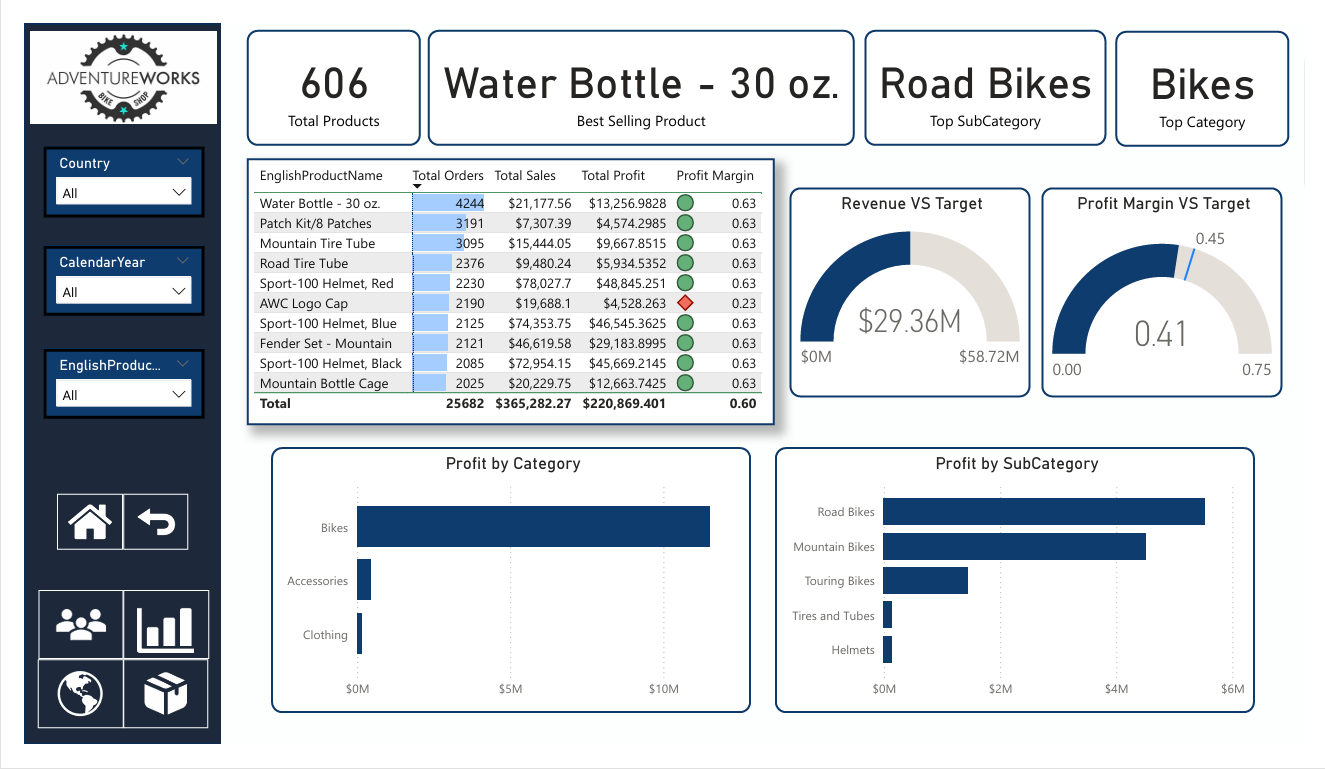

The page's visual inventory and layout, read from the dashboard file:
{"tool":"powerbi","page":{"name":"Product Performace","canvas":[1280,720],"ordinal":3},"visuals":[{"type":"shape","box":[0,0,196.5,719.8],"z":0},{"type":"image","box":[1,0,195.5,108.9],"z":1000},{"type":"slicer","fields":{"Values":["DimGeography.EnglishCountryRegionName"]},"box":[18.5,122.6,161.5,71],"z":2000},{"type":"slicer","fields":{"Values":["DimDate.CalendarYear"]},"box":[18.6,221.8,161.2,70.4],"z":3000},{"type":"slicer","fields":{"Values":["DimProductCategory.EnglishProductCategoryName"]},"box":[18.6,324.4,161.2,70.4],"z":4000},{"type":"image","box":[13.6,566.1,84.6,69.1],"z":5000},{"type":"image","box":[12.6,635.1,85.6,69.1],"z":6000},{"type":"image","box":[32.1,469.8,66.1,56.4],"z":7000},{"type":"image","box":[98.2,635.1,84.6,69.1],"z":8000},{"type":"image","box":[98.2,469.8,65.2,56.4],"z":9000},{"type":"image","box":[98.2,566.1,85.6,69.1],"z":10000},{"type":"tableEx","fields":{"Values":["DimProduct.EnglishProductName","Dax Measures.Total Orders","Dax Measures.Total Sales","Dax Measures.Total Profit","Dax Measures.Profit Margin"]},"box":[221.8,134.2,528.1,267.5],"z":11000},{"type":"barChart","title":"Profit by Category","fields":{"Category":["DimProductCategory.EnglishProductCategoryName"],"Y":["Dax Measures.Total Profit"]},"box":[246.1,423.1,480.5,265.5],"z":12000},{"type":"card","fields":{"Values":["Min(Top Selling Product.Top Product)"]},"box":[402.7,5.8,427,115.7],"z":13000},{"type":"barChart","title":"Profit by SubCategory","fields":{"Y":["Dax Measures.Total Profit"],"Category":["DimProductSubcategory.EnglishProductSubcategoryName"]},"box":[749.9,423.1,480.5,265.5],"z":14000},{"type":"gauge","title":"Revenue VS Target","fields":{"Y":["Dax Measures.Total Sales"]},"box":[764.5,163.4,241.2,210.1],"z":15000},{"type":"card","fields":{"Values":["Min(Top SubCategory.Top SubCategroy)"]},"box":[839.4,5.8,242.2,115.7],"z":16000},{"type":"card","fields":{"Values":["Min(Top Category.Top Category)"]},"box":[1090.3,6.8,174.1,115.7],"z":17000},{"type":"gauge","title":"Profit Margin VS Target","fields":{"Y":["Dax Measures.Profit Margin"],"TargetValue":["Dax Measures.Average Product Margin"]},"box":[1016.4,163.4,241.2,210.1],"z":18000},{"type":"card","fields":{"Values":["Count(DimProduct.ProductKey)"]},"box":[221.8,5.8,174.1,115.7],"z":18001}]}

Visuals, with their boxes on the page's 1280x720 design canvas (x1, y1, x2, y2). These are canvas units, not pixel positions in the 1325x769 screenshot, which may show the page scaled, cropped or inside an application window:
shape: pyautogui.locateOnScreen(0, 0, 196, 720)
image: pyautogui.locateOnScreen(1, 0, 196, 109)
slicer - DimGeography.EnglishCountryRegionName: pyautogui.locateOnScreen(18, 123, 180, 194)
slicer - DimDate.CalendarYear: pyautogui.locateOnScreen(19, 222, 180, 292)
slicer - DimProductCategory.EnglishProductCategoryName: pyautogui.locateOnScreen(19, 324, 180, 395)
image: pyautogui.locateOnScreen(14, 566, 98, 635)
image: pyautogui.locateOnScreen(13, 635, 98, 704)
image: pyautogui.locateOnScreen(32, 470, 98, 526)
image: pyautogui.locateOnScreen(98, 635, 183, 704)
image: pyautogui.locateOnScreen(98, 470, 163, 526)
image: pyautogui.locateOnScreen(98, 566, 184, 635)
tableEx - DimProduct.EnglishProductName x Dax Measures.Total Orders: pyautogui.locateOnScreen(222, 134, 750, 402)
"Profit by Category" barChart: pyautogui.locateOnScreen(246, 423, 727, 689)
card - Min(Top Selling Product.Top Product): pyautogui.locateOnScreen(403, 6, 830, 122)
"Profit by SubCategory" barChart: pyautogui.locateOnScreen(750, 423, 1230, 689)
"Revenue VS Target" gauge: pyautogui.locateOnScreen(764, 163, 1006, 374)
card - Min(Top SubCategory.Top SubCategroy): pyautogui.locateOnScreen(839, 6, 1082, 122)
card - Min(Top Category.Top Category): pyautogui.locateOnScreen(1090, 7, 1264, 122)
"Profit Margin VS Target" gauge: pyautogui.locateOnScreen(1016, 163, 1258, 374)
card - Count(DimProduct.ProductKey): pyautogui.locateOnScreen(222, 6, 396, 122)
